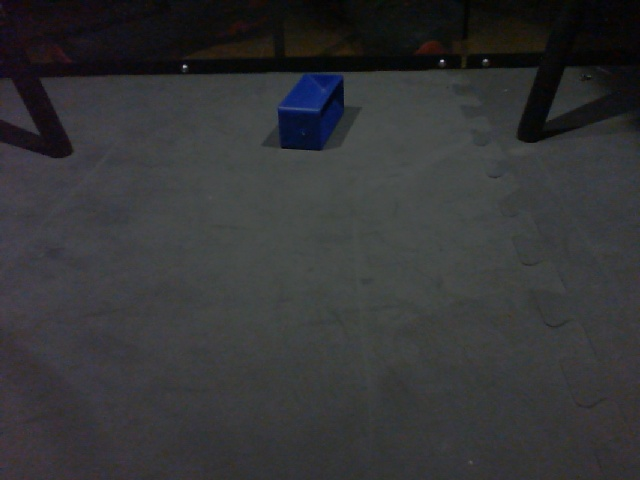BlueSample: (275, 72, 348, 156)
